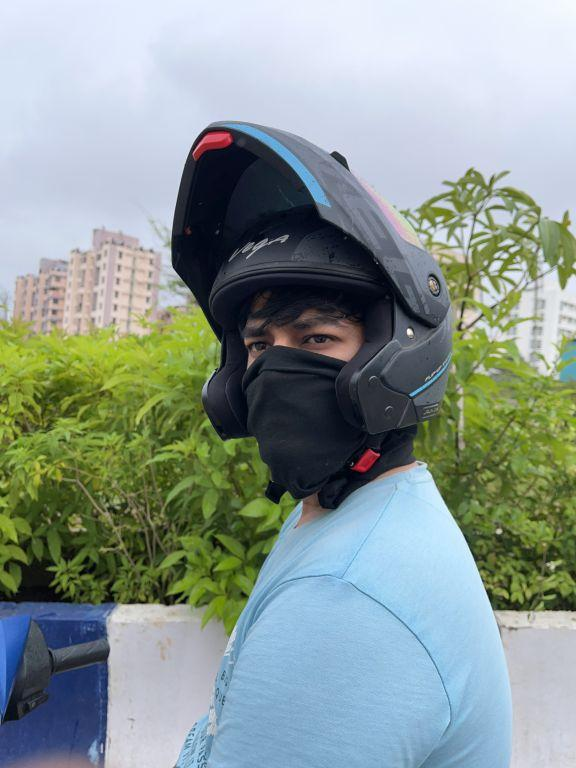helmet: (167, 107, 465, 502)
